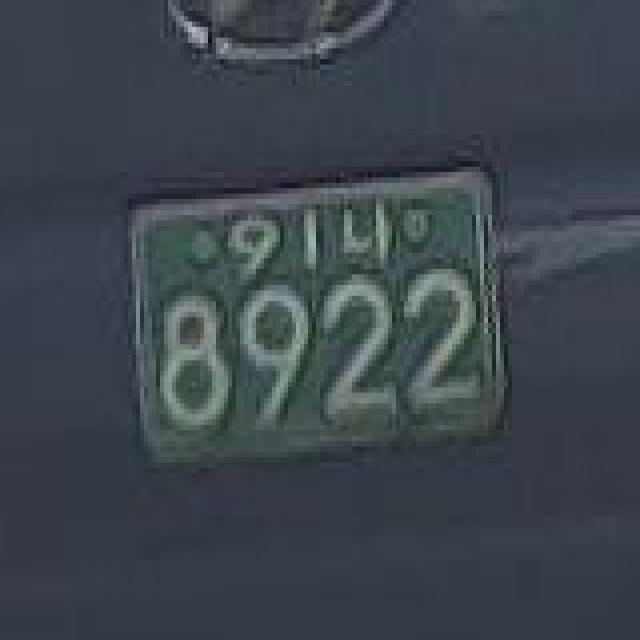illegal_plate: (122, 164, 512, 481)
